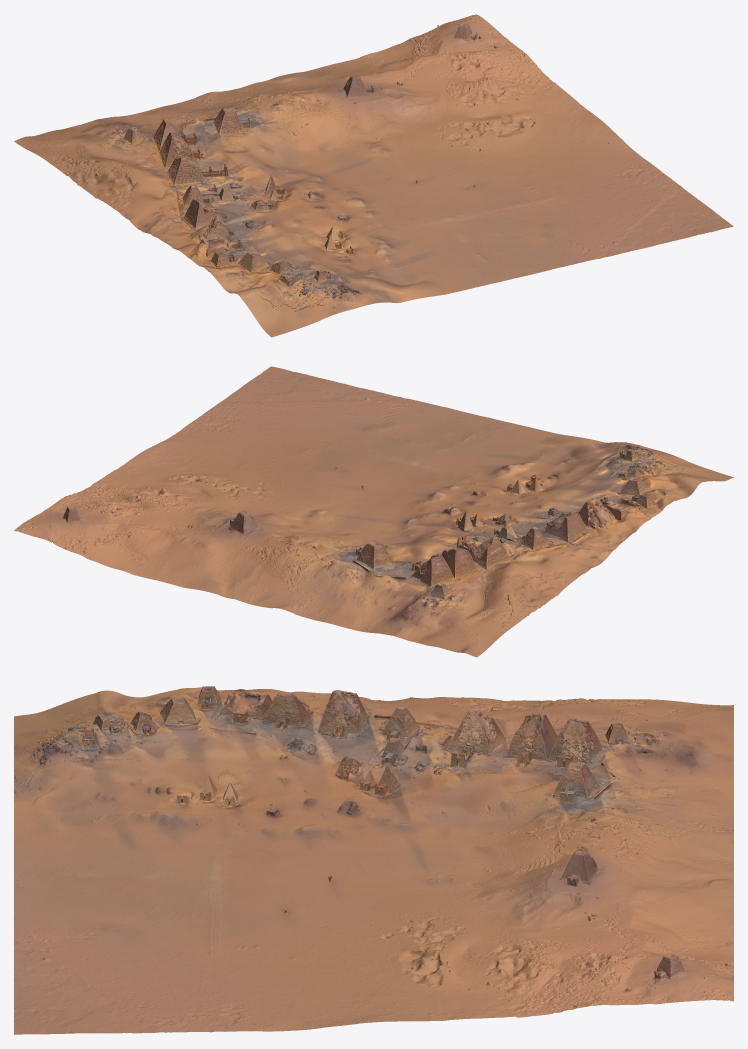
The picture shows the model from 3 angles, top to bottom: view 1: azimuth 30°, elevation 25°; view 2: azimuth 150°, elevation 25°; view 3: azimuth 270°, elevation 25°; orthographic projection. The views are drawn at different scales.
Visible parts, largest first — view 1: SDN_001_M3_NorthCemetery_v2; view 2: SDN_001_M3_NorthCemetery_v2; view 3: SDN_001_M3_NorthCemetery_v2.
Part boxes in pixels (x1,y1,x2,y2): SDN_001_M3_NorthCemetery_v2: (14,14,733,337); SDN_001_M3_NorthCemetery_v2: (14,366,733,657); SDN_001_M3_NorthCemetery_v2: (14,686,733,1034).
Size of the model in its own units: 311 by 30.56 by 300.
1 material, 1 textured.
